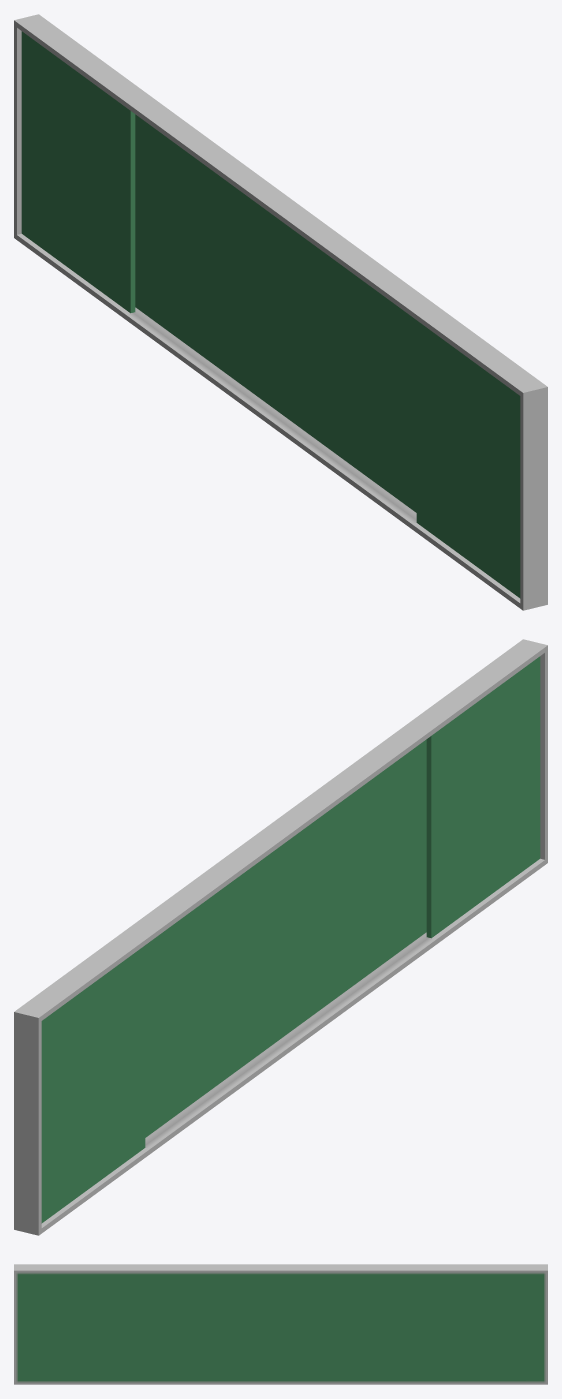
Rendered from prop_blackboard_01.fbx.
3 renders of one model, top to bottom at view 1: azimuth 30°, elevation 25°; view 2: azimuth 150°, elevation 25°; view 3: azimuth 270°, elevation 25°, orthographic. The views are drawn at different scales.
Parts seen in each view (by area): view 1: prop_blackboard_01; view 2: prop_blackboard_01; view 3: prop_blackboard_01.
Part boxes in pixels (bbox=[...]): prop_blackboard_01: bbox=[14, 14, 547, 610]; prop_blackboard_01: bbox=[14, 639, 547, 1235]; prop_blackboard_01: bbox=[14, 1264, 547, 1384].
Bounding box in the file's own units: 5 × 42 × 178.
